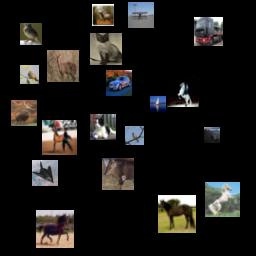airplane: (32, 160, 58, 186), (128, 2, 154, 28)
automobile: (106, 70, 132, 96), (204, 127, 220, 143)
bird: (20, 23, 42, 45), (20, 65, 39, 84), (125, 126, 144, 145)
cat: (90, 33, 122, 65), (90, 114, 116, 140)
deer: (47, 50, 79, 82), (102, 158, 134, 190), (11, 100, 37, 126), (92, 4, 114, 26)
ship: (150, 96, 166, 112)
truck: (194, 17, 223, 46)
